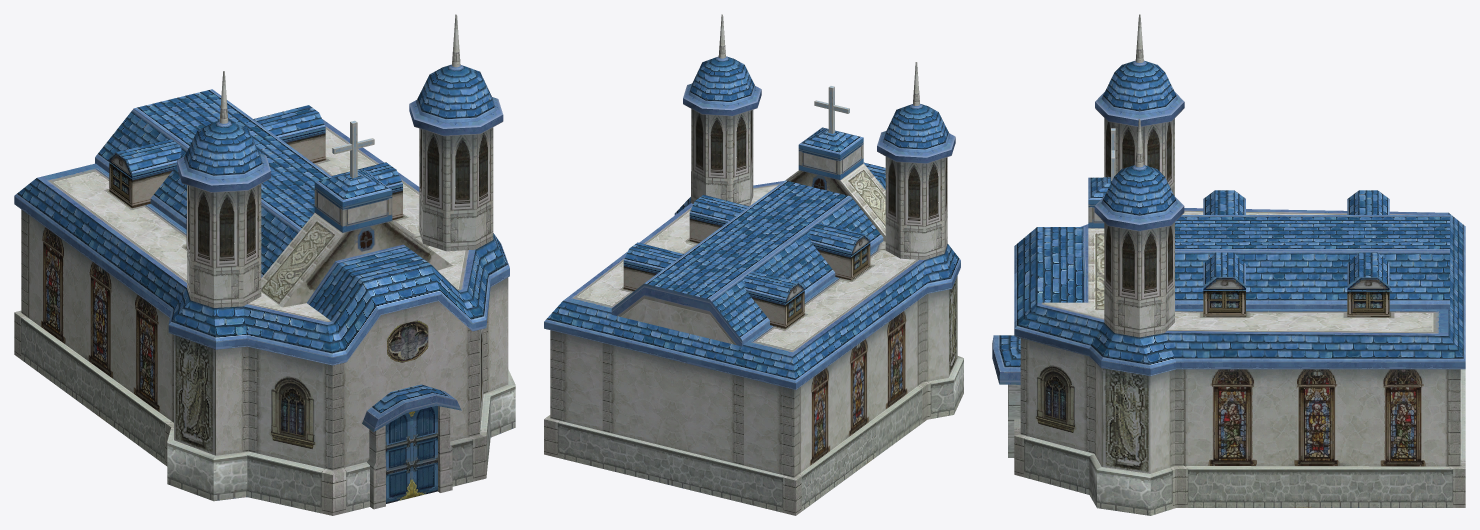
3 views of the same model, side by side, from view 1: azimuth 30°, elevation 25°; view 2: azimuth 150°, elevation 25°; view 3: azimuth 270°, elevation 25° (orthographic). The views are drawn at different scales.
Parts seen in each view (by area): view 1: geom_node_4, geom_node_1, geom_node_3, geom_node_5, geom_node_6, geom_node_2, geom_node_0; view 2: geom_node_1, geom_node_0, geom_node_4, geom_node_5, geom_node_6, geom_node_2, geom_node_3; view 3: geom_node_3, geom_node_0, geom_node_6, geom_node_5, geom_node_1, geom_node_4, geom_node_2.
Boxes of the visible parts, left/top/right/bottom form: geom_node_4: left=110, top=171, right=409, bottom=515; geom_node_1: left=14, top=99, right=271, bottom=424; geom_node_3: left=272, top=161, right=515, bottom=503; geom_node_5: left=177, top=71, right=270, bottom=307; geom_node_6: left=409, top=14, right=503, bottom=251; geom_node_2: left=261, top=120, right=452, bottom=307; geom_node_0: left=173, top=89, right=408, bottom=181; geom_node_1: left=670, top=231, right=885, bottom=515; geom_node_0: left=544, top=223, right=759, bottom=484; geom_node_4: left=760, top=163, right=963, bottom=456; geom_node_5: left=877, top=62, right=955, bottom=259; geom_node_6: left=683, top=14, right=761, bottom=206; geom_node_2: left=786, top=86, right=885, bottom=241; geom_node_3: left=644, top=162, right=864, bottom=250; geom_node_3: left=992, top=232, right=1289, bottom=515; geom_node_0: left=1268, top=232, right=1465, bottom=507; geom_node_6: left=1094, top=119, right=1184, bottom=337; geom_node_5: left=1095, top=14, right=1184, bottom=195; geom_node_1: left=1268, top=190, right=1465, bottom=401; geom_node_4: left=1008, top=190, right=1268, bottom=417; geom_node_2: left=1088, top=128, right=1115, bottom=310.
Size of the model in its own units: 8.83 by 10.15 by 11.68.
24 materials, 24 textured.
